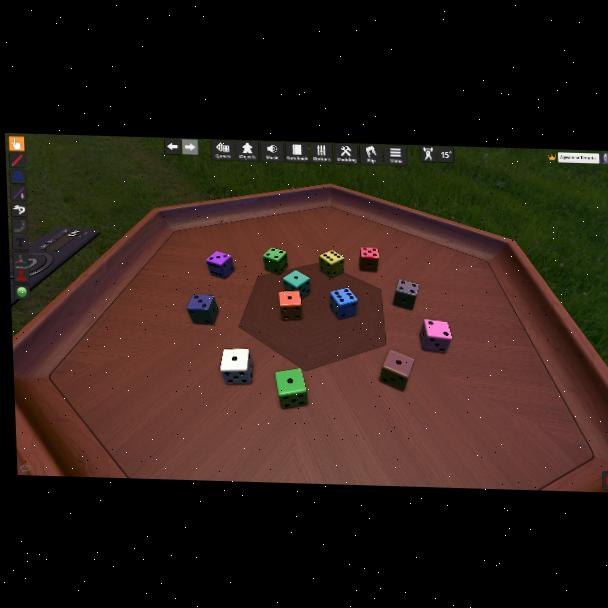d6: (378, 350, 413, 392), (275, 368, 309, 410), (220, 348, 253, 385), (420, 320, 452, 354), (186, 293, 218, 325), (329, 286, 357, 319), (282, 269, 310, 300), (391, 280, 418, 312), (206, 250, 234, 280), (279, 291, 303, 322), (263, 247, 288, 275), (319, 250, 343, 279), (359, 247, 379, 272)
